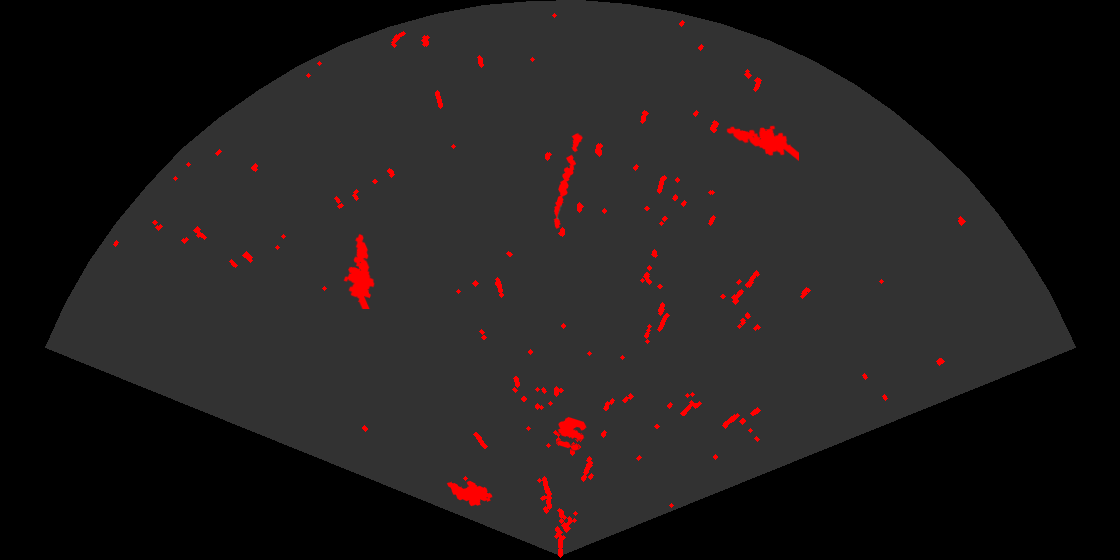AUV: (445, 479, 494, 508)
ball: (555, 415, 588, 452)
chain: (552, 131, 584, 230)
frogman: (725, 124, 799, 163), (342, 232, 376, 309)
